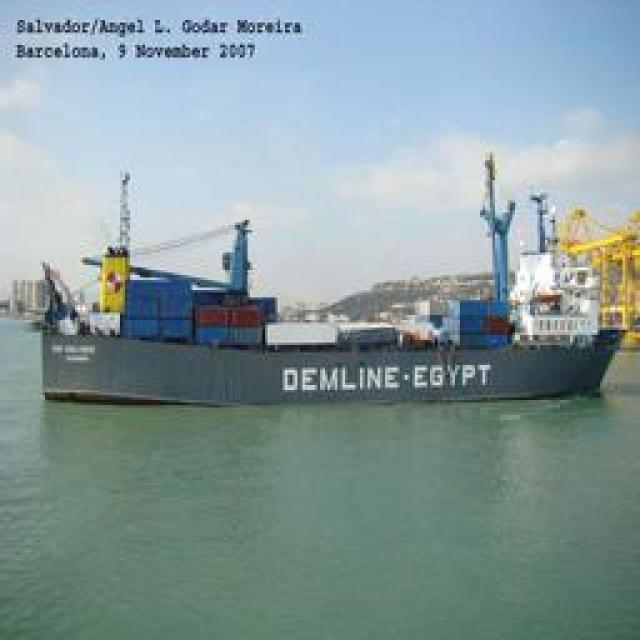CIV_Ship: (29, 166, 632, 402)
